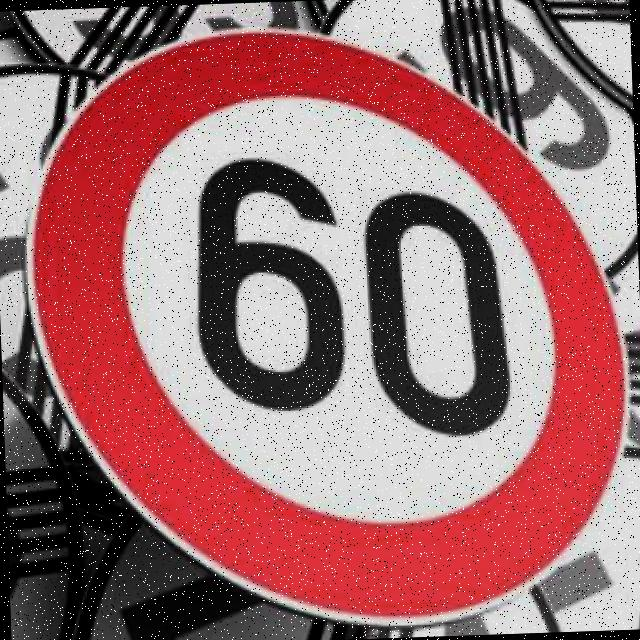Ograniczenie predkosci do 60: (17, 15, 635, 638)
